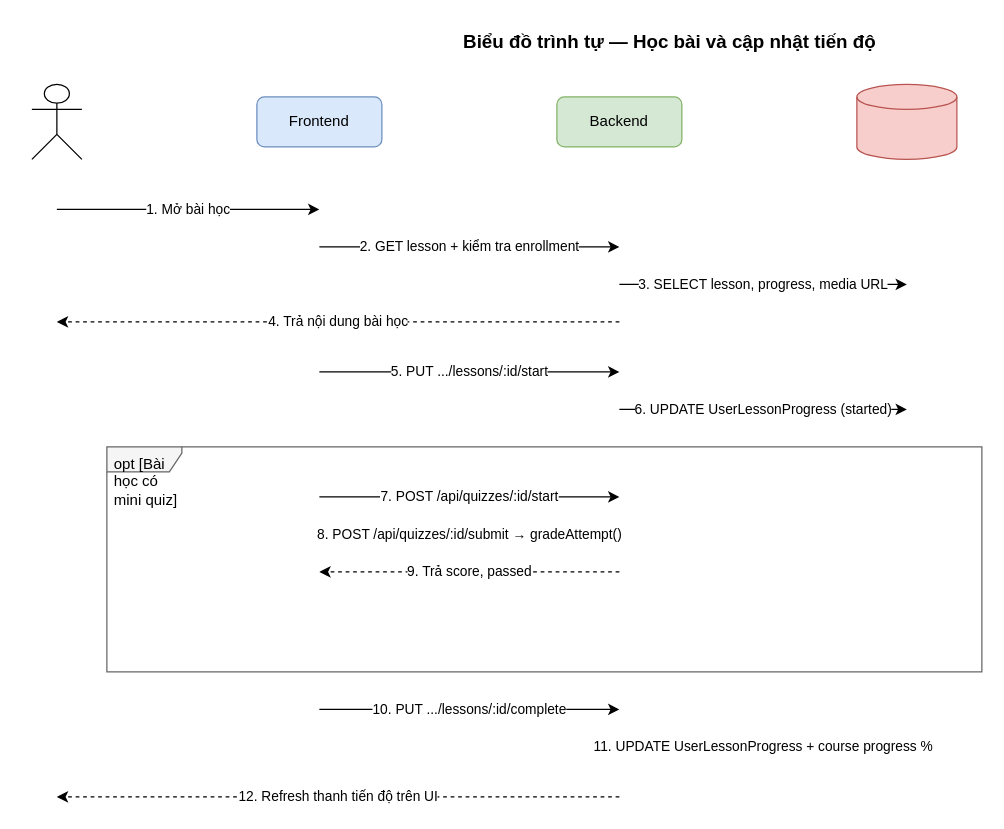
This 1004x829 diagram has some shape labels left out. The centre of each missing label's shape, as x and y in pixels:
"Người học" belongs at (x=56, y=121).
"PostgreSQL" belongs at (x=906, y=121).
